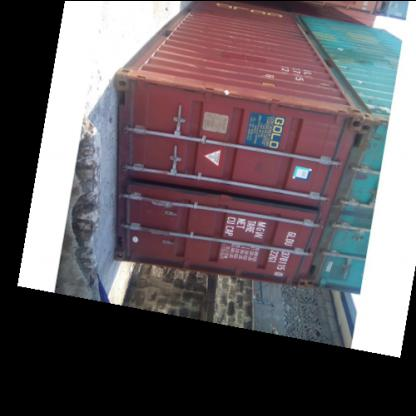Damage: (227, 90, 360, 120)
